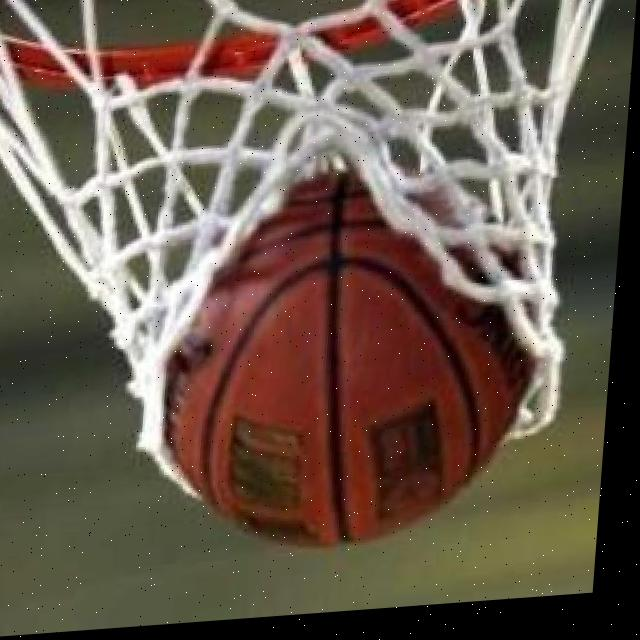Goal: (151, 156, 547, 562)
